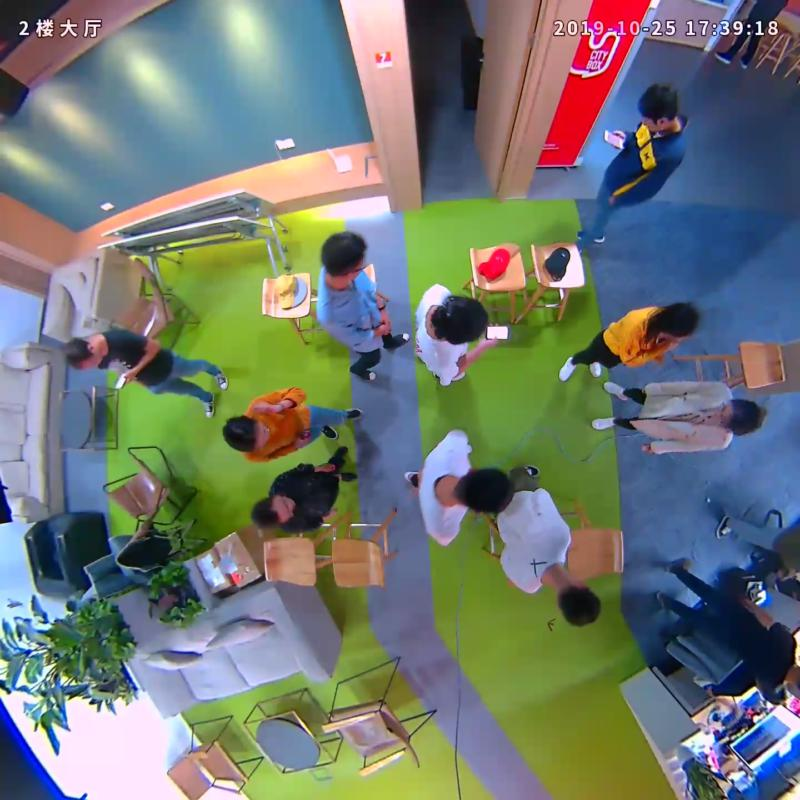head: (452, 465, 516, 515), (438, 294, 488, 344), (554, 577, 601, 627), (321, 231, 366, 283), (221, 413, 272, 452), (639, 83, 677, 133), (655, 300, 700, 342), (715, 397, 763, 436), (251, 492, 297, 527), (63, 337, 102, 373)
